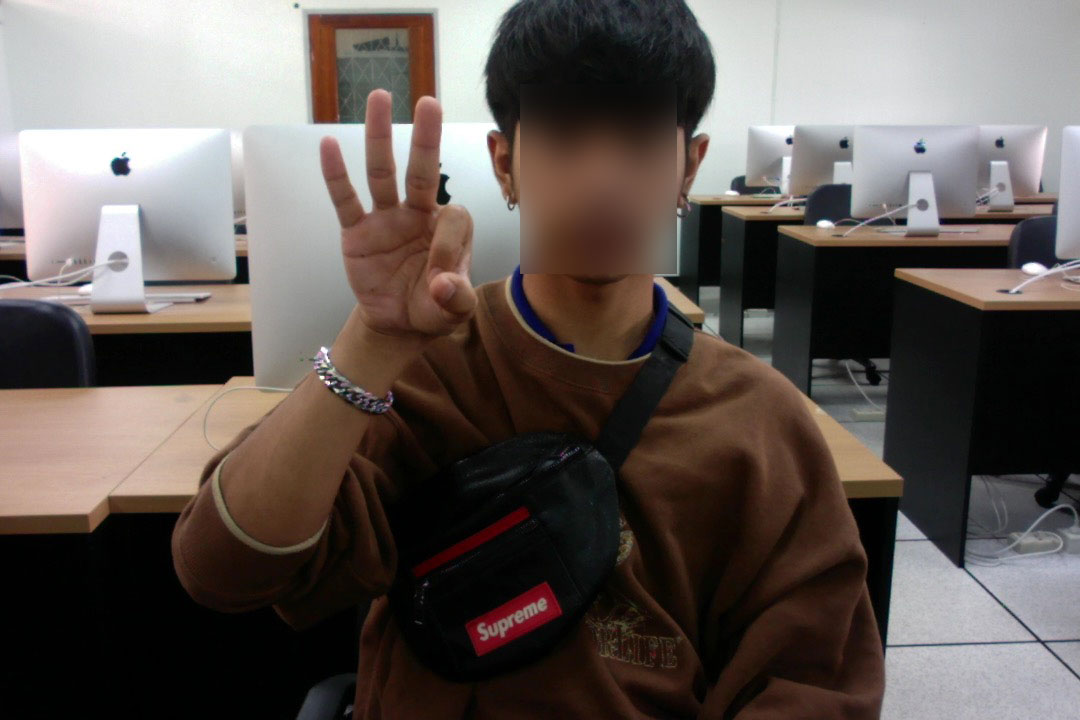for: (285, 58, 493, 369)
